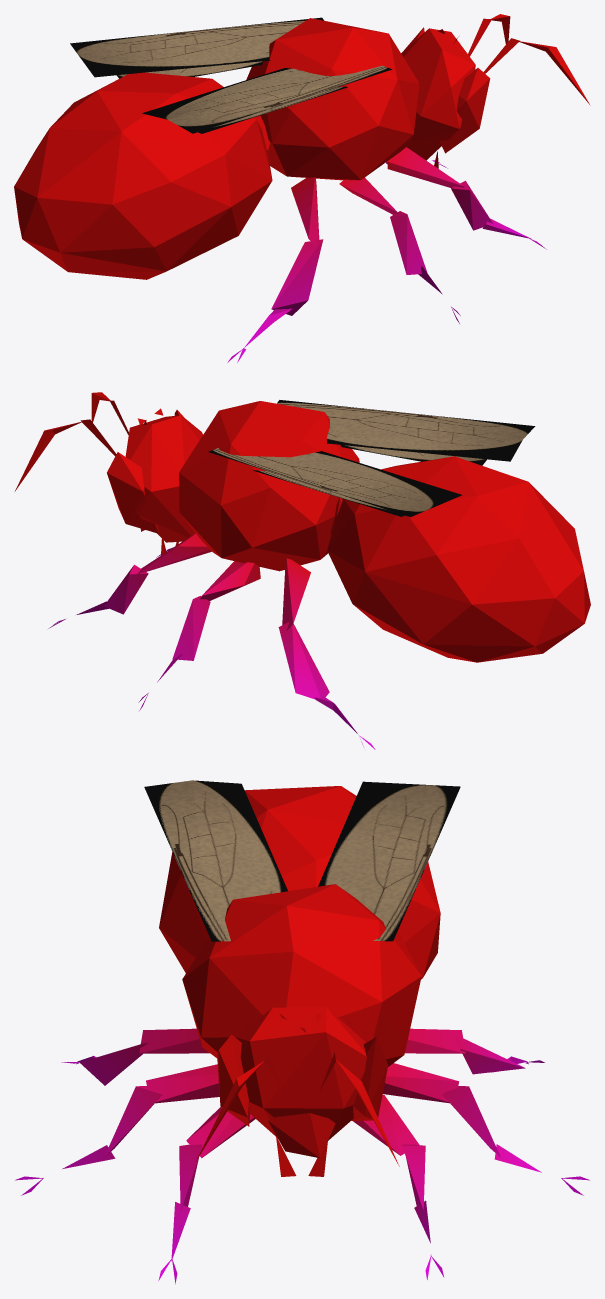
The model's file is SM_Bumblebee_Landed_LOD3.fbx.
3 renders of one model, top to bottom at view 1: azimuth 30°, elevation 25°; view 2: azimuth 150°, elevation 25°; view 3: azimuth 270°, elevation 25°, orthographic. The views are drawn at different scales.
Visible parts, largest first — view 1: SM_Bumblebee_Landed_LOD3; view 2: SM_Bumblebee_Landed_LOD3; view 3: SM_Bumblebee_Landed_LOD3.
Part boxes in pixels (bbox=[...]): SM_Bumblebee_Landed_LOD3: bbox=[14, 14, 590, 362]; SM_Bumblebee_Landed_LOD3: bbox=[15, 392, 590, 749]; SM_Bumblebee_Landed_LOD3: bbox=[15, 780, 589, 1284].
Size of the model in its own units: 2.97 by 1.21 by 2.19.
